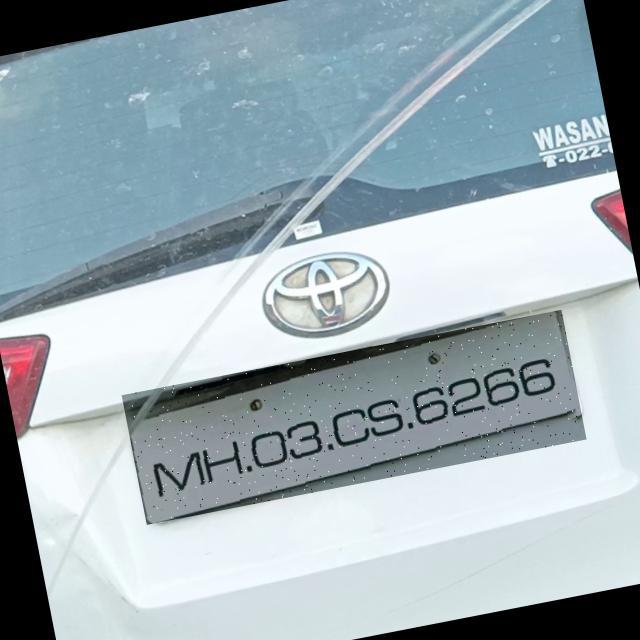Plate: (123, 311, 588, 526)
